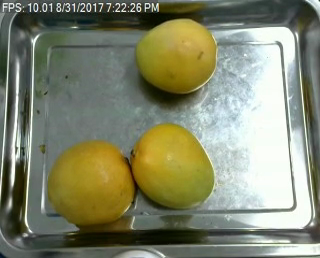Mango: (45, 136, 135, 226), (130, 121, 218, 209), (131, 17, 218, 94)
